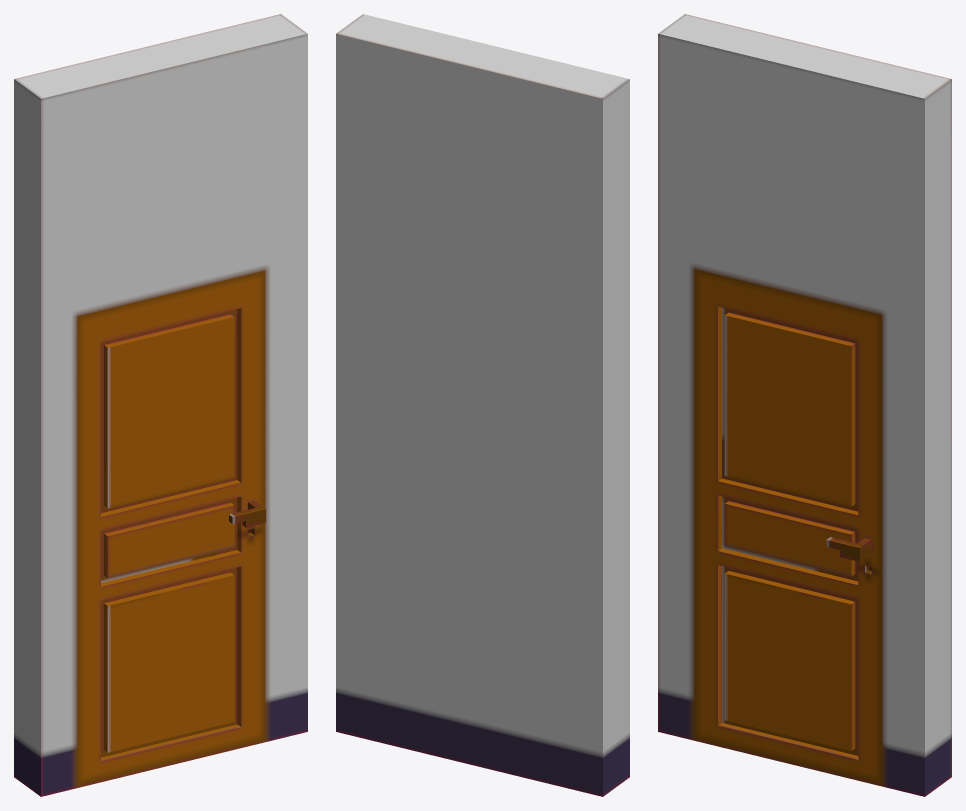
The model's file is door-wall_2.obj.
3 views of the same model, side by side, from view 1: azimuth 30°, elevation 25°; view 2: azimuth 150°, elevation 25°; view 3: azimuth 330°, elevation 25° (orthographic).
Visible parts, largest first — view 1: door-wall_2; view 2: door-wall_2; view 3: door-wall_2.
Part boxes in pixels (box(x1,y1,x2,y2)): door-wall_2: box(14, 14, 307, 796); door-wall_2: box(336, 14, 629, 796); door-wall_2: box(658, 14, 951, 796).
Bounding box in the file's own units: 4 × 10 × 1.
1 material, 1 textured.
